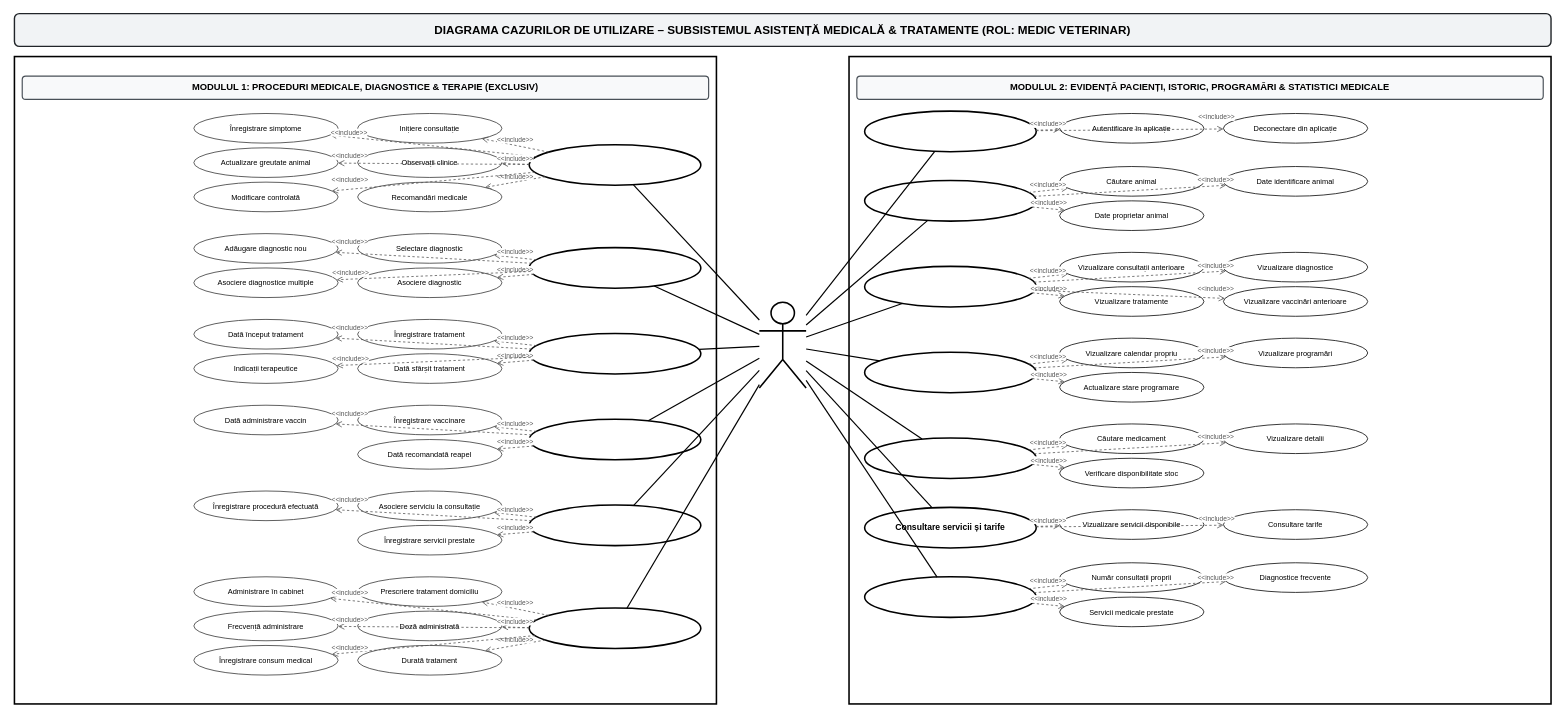
The diagram is 1565 pixels wide and 718 high, and some of its shapes have lost their labels. The centre of each missing label's shape, as x and y in pixels:
"Autentificare și deconectare" belongs at pixel 950 131.
"Consultare fișă animal" belongs at pixel 950 200.
"Consultare istoric medical" belongs at pixel 950 286.
"Consultare medicamente și stocuri" belongs at pixel 950 458.
"Consultare programări proprii" belongs at pixel 950 372.
"Consultare rapoarte medicale" belongs at pixel 950 597.
"Gestionare consultații" belongs at pixel 614 165.
"Gestionare diagnostice" belongs at pixel 614 267.
"Gestionare medicamente clinic" belongs at pixel 614 628.
"Gestionare servicii medicale" belongs at pixel 614 525.
"Gestionare tratamente" belongs at pixel 614 353.
"Gestionare vaccinări" belongs at pixel 614 439.
"Medic Veterinar" belongs at pixel 782 344.
